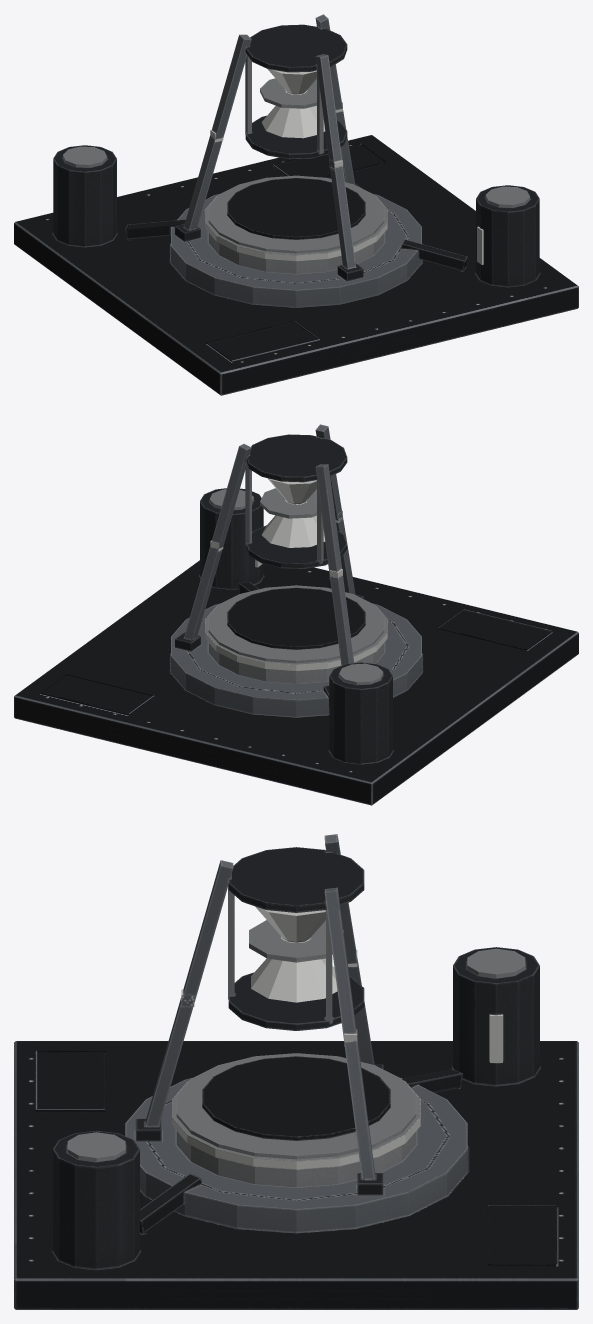
The model's file is chs_carapace.fbx.
3 views of the same model, one above another, from view 1: azimuth 30°, elevation 25°; view 2: azimuth 150°, elevation 25°; view 3: azimuth 270°, elevation 25° (orthographic). The views are drawn at different scales.
Parts seen in each view (by area): view 1: base_bar, core_glow_power_bar, base_glow_power_bar, core_bar; view 2: base_bar, core_glow_power_bar, base_glow_power_bar, core_bar; view 3: base_bar, core_glow_power_bar, base_glow_power_bar, core_bar.
Boxes of the visible parts, x1,y1,x2,y2 form: base_bar: [14, 14, 578, 395]; core_glow_power_bar: [261, 69, 325, 138]; base_glow_power_bar: [205, 223, 483, 264]; core_bar: [260, 78, 316, 108]; base_bar: [14, 424, 578, 805]; core_glow_power_bar: [262, 478, 325, 547]; base_glow_power_bar: [205, 560, 387, 670]; core_bar: [260, 488, 316, 518]; base_bar: [14, 834, 578, 1309]; core_glow_power_bar: [251, 906, 337, 1002]; base_glow_power_bar: [172, 1014, 502, 1169]; core_bar: [249, 920, 343, 962].
Size of the model in its own units: 1300 by 1035 by 1300.
2 materials, 2 textured.
